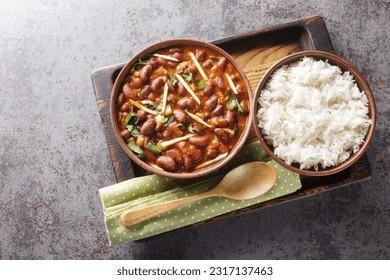rajma: (117, 50, 248, 169)
rice: (261, 65, 376, 169)
